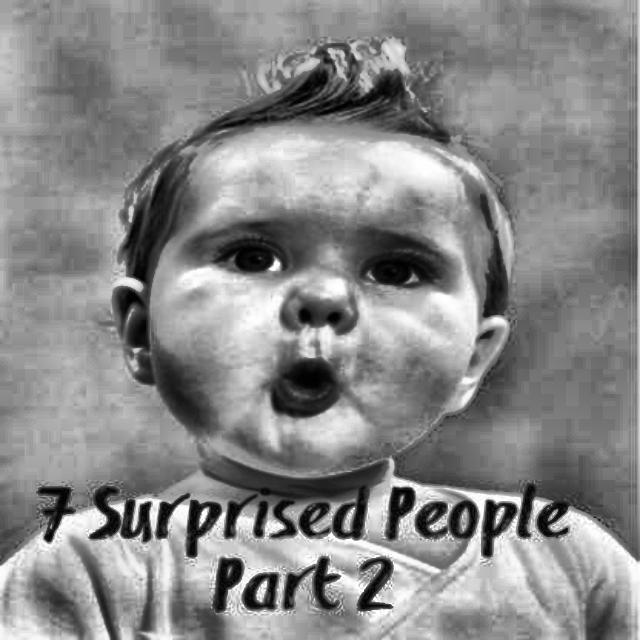surprised: (95, 101, 521, 473)
